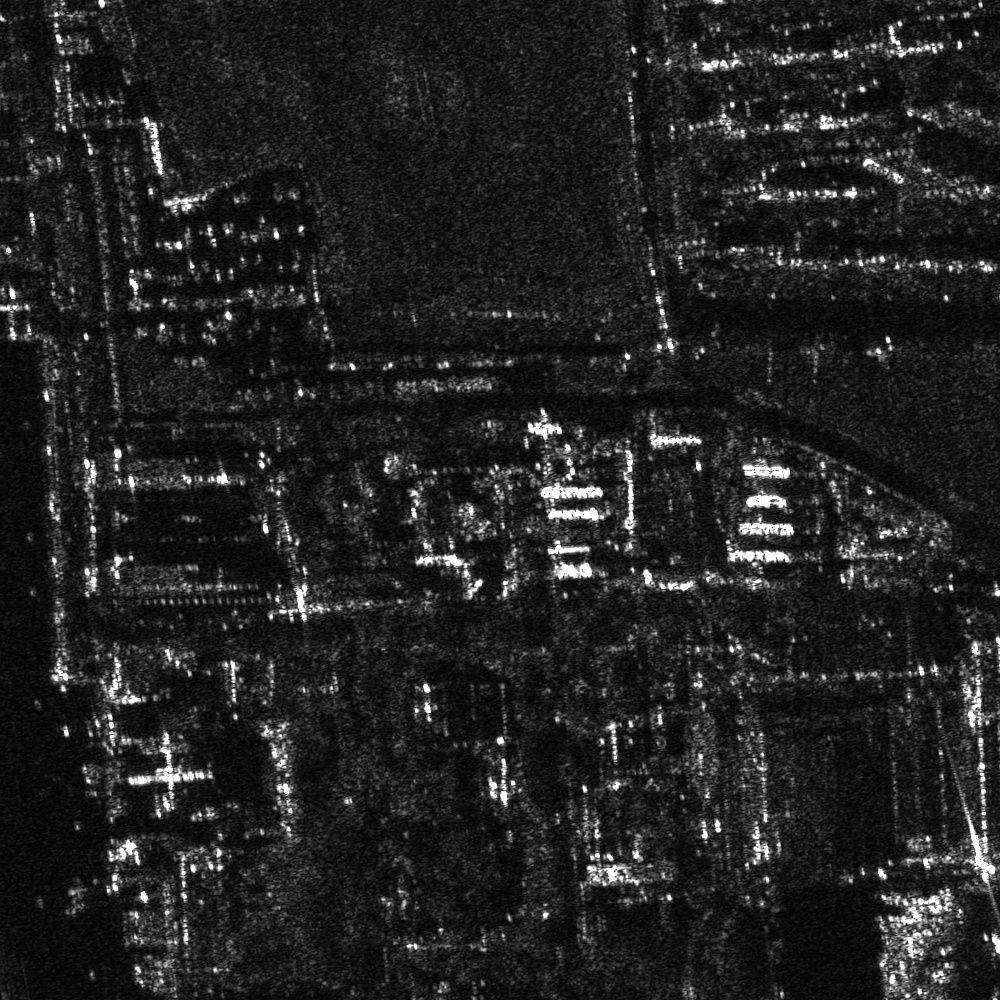Boeing737: (973, 926, 999, 999)
